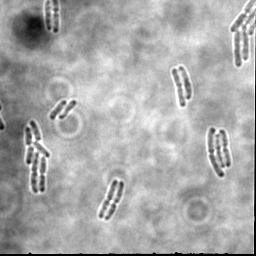Dividing: (205, 126, 225, 178), (96, 178, 120, 220), (104, 180, 125, 222), (170, 67, 187, 108), (176, 64, 193, 101), (219, 127, 234, 168), (213, 131, 226, 169), (51, 1, 61, 35)
Microcolony: (23, 119, 51, 196), (231, 1, 255, 69)
Rod: (57, 98, 78, 121), (48, 98, 68, 122), (43, 1, 53, 32)
